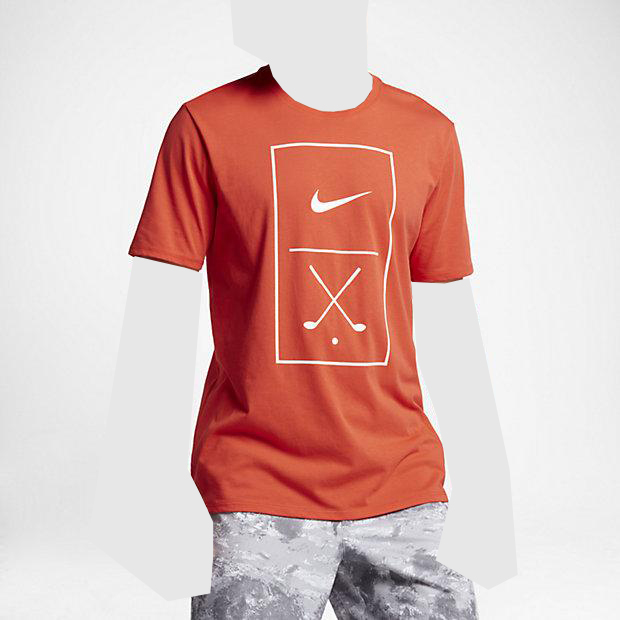teeshirt: (130, 63, 483, 519)
